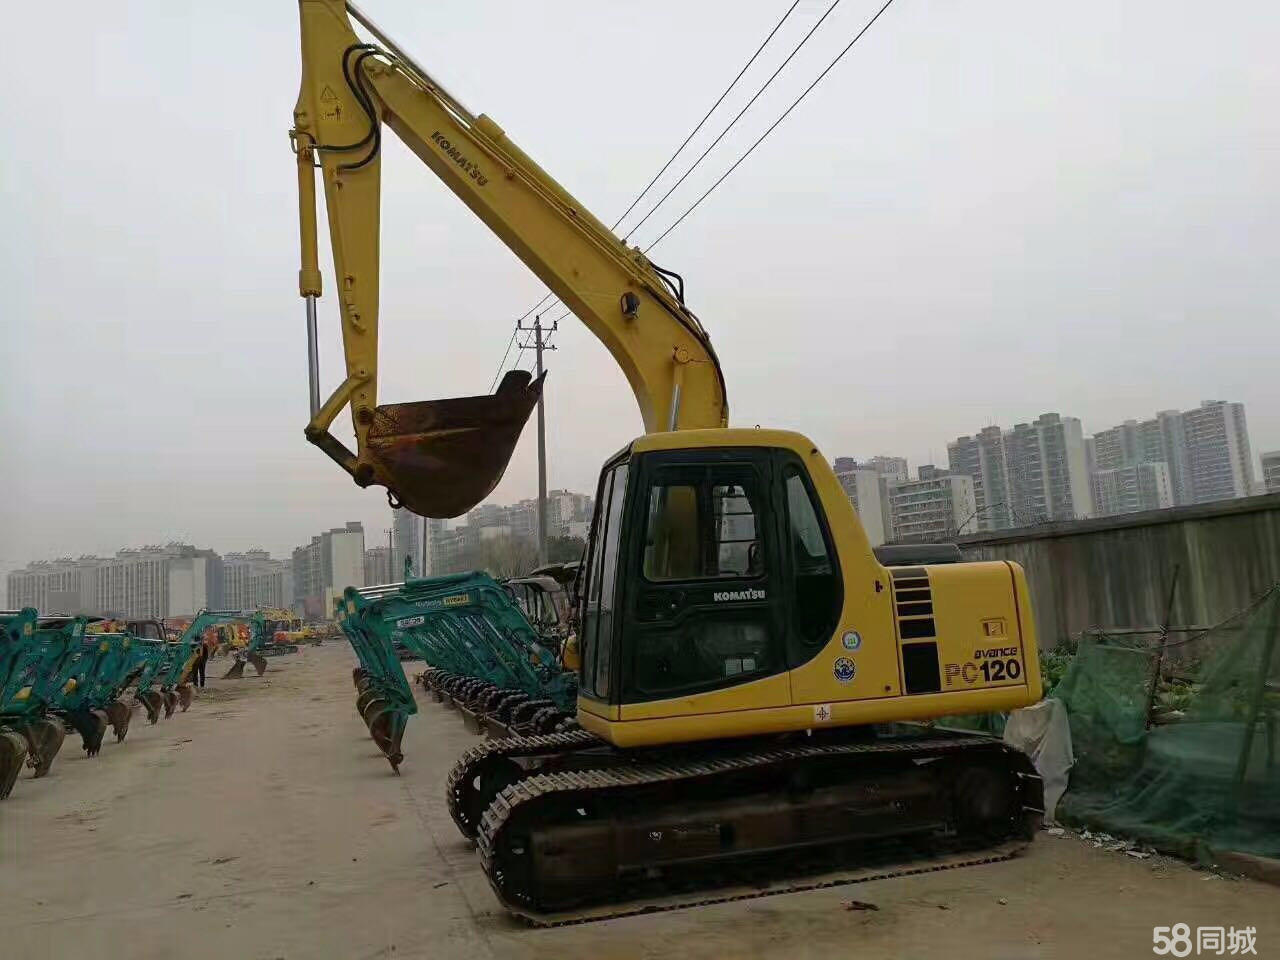excavator: (272, 3, 1054, 921)
